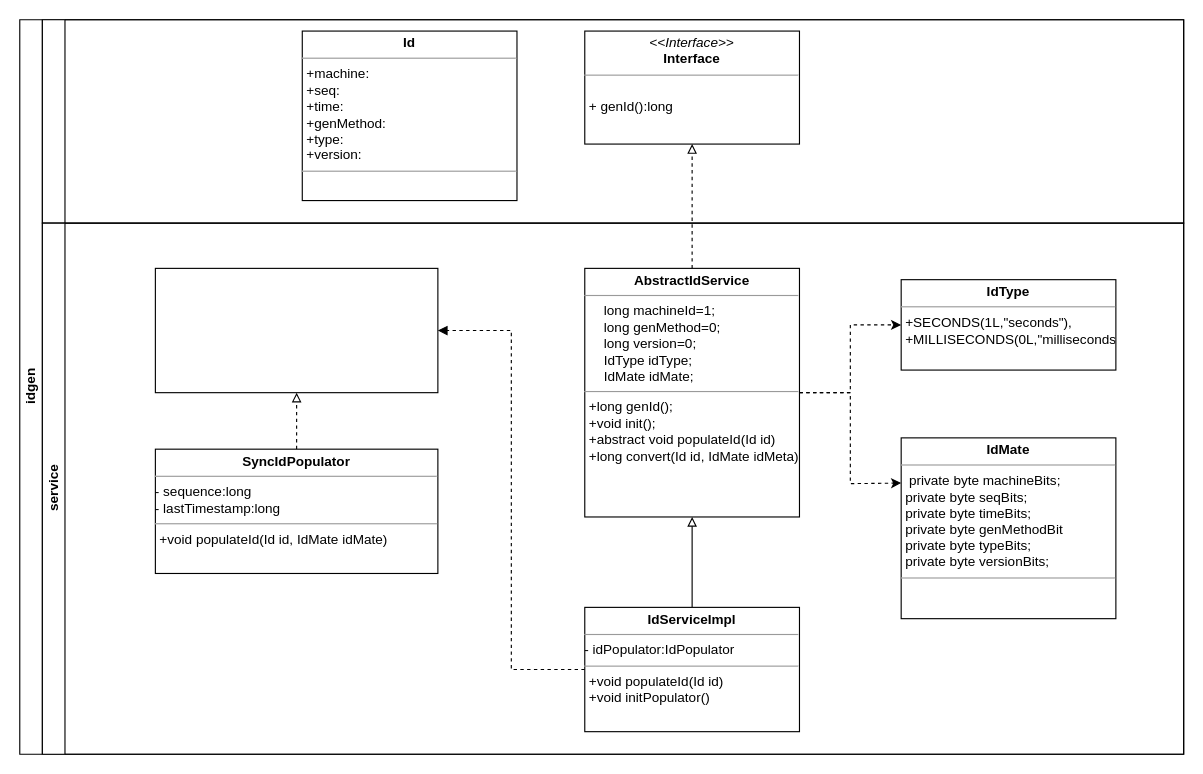
Some shapes in this 1203 by 774 pixel diagram are drawn without their labels. Here are the shapes that lost their labels. From the top down, the centre of each, then its label:
At (612,121): "intf".
At (296,330): "<<Interface>> IdPopulator + populateId(Id id, IdMate idMate):void".
